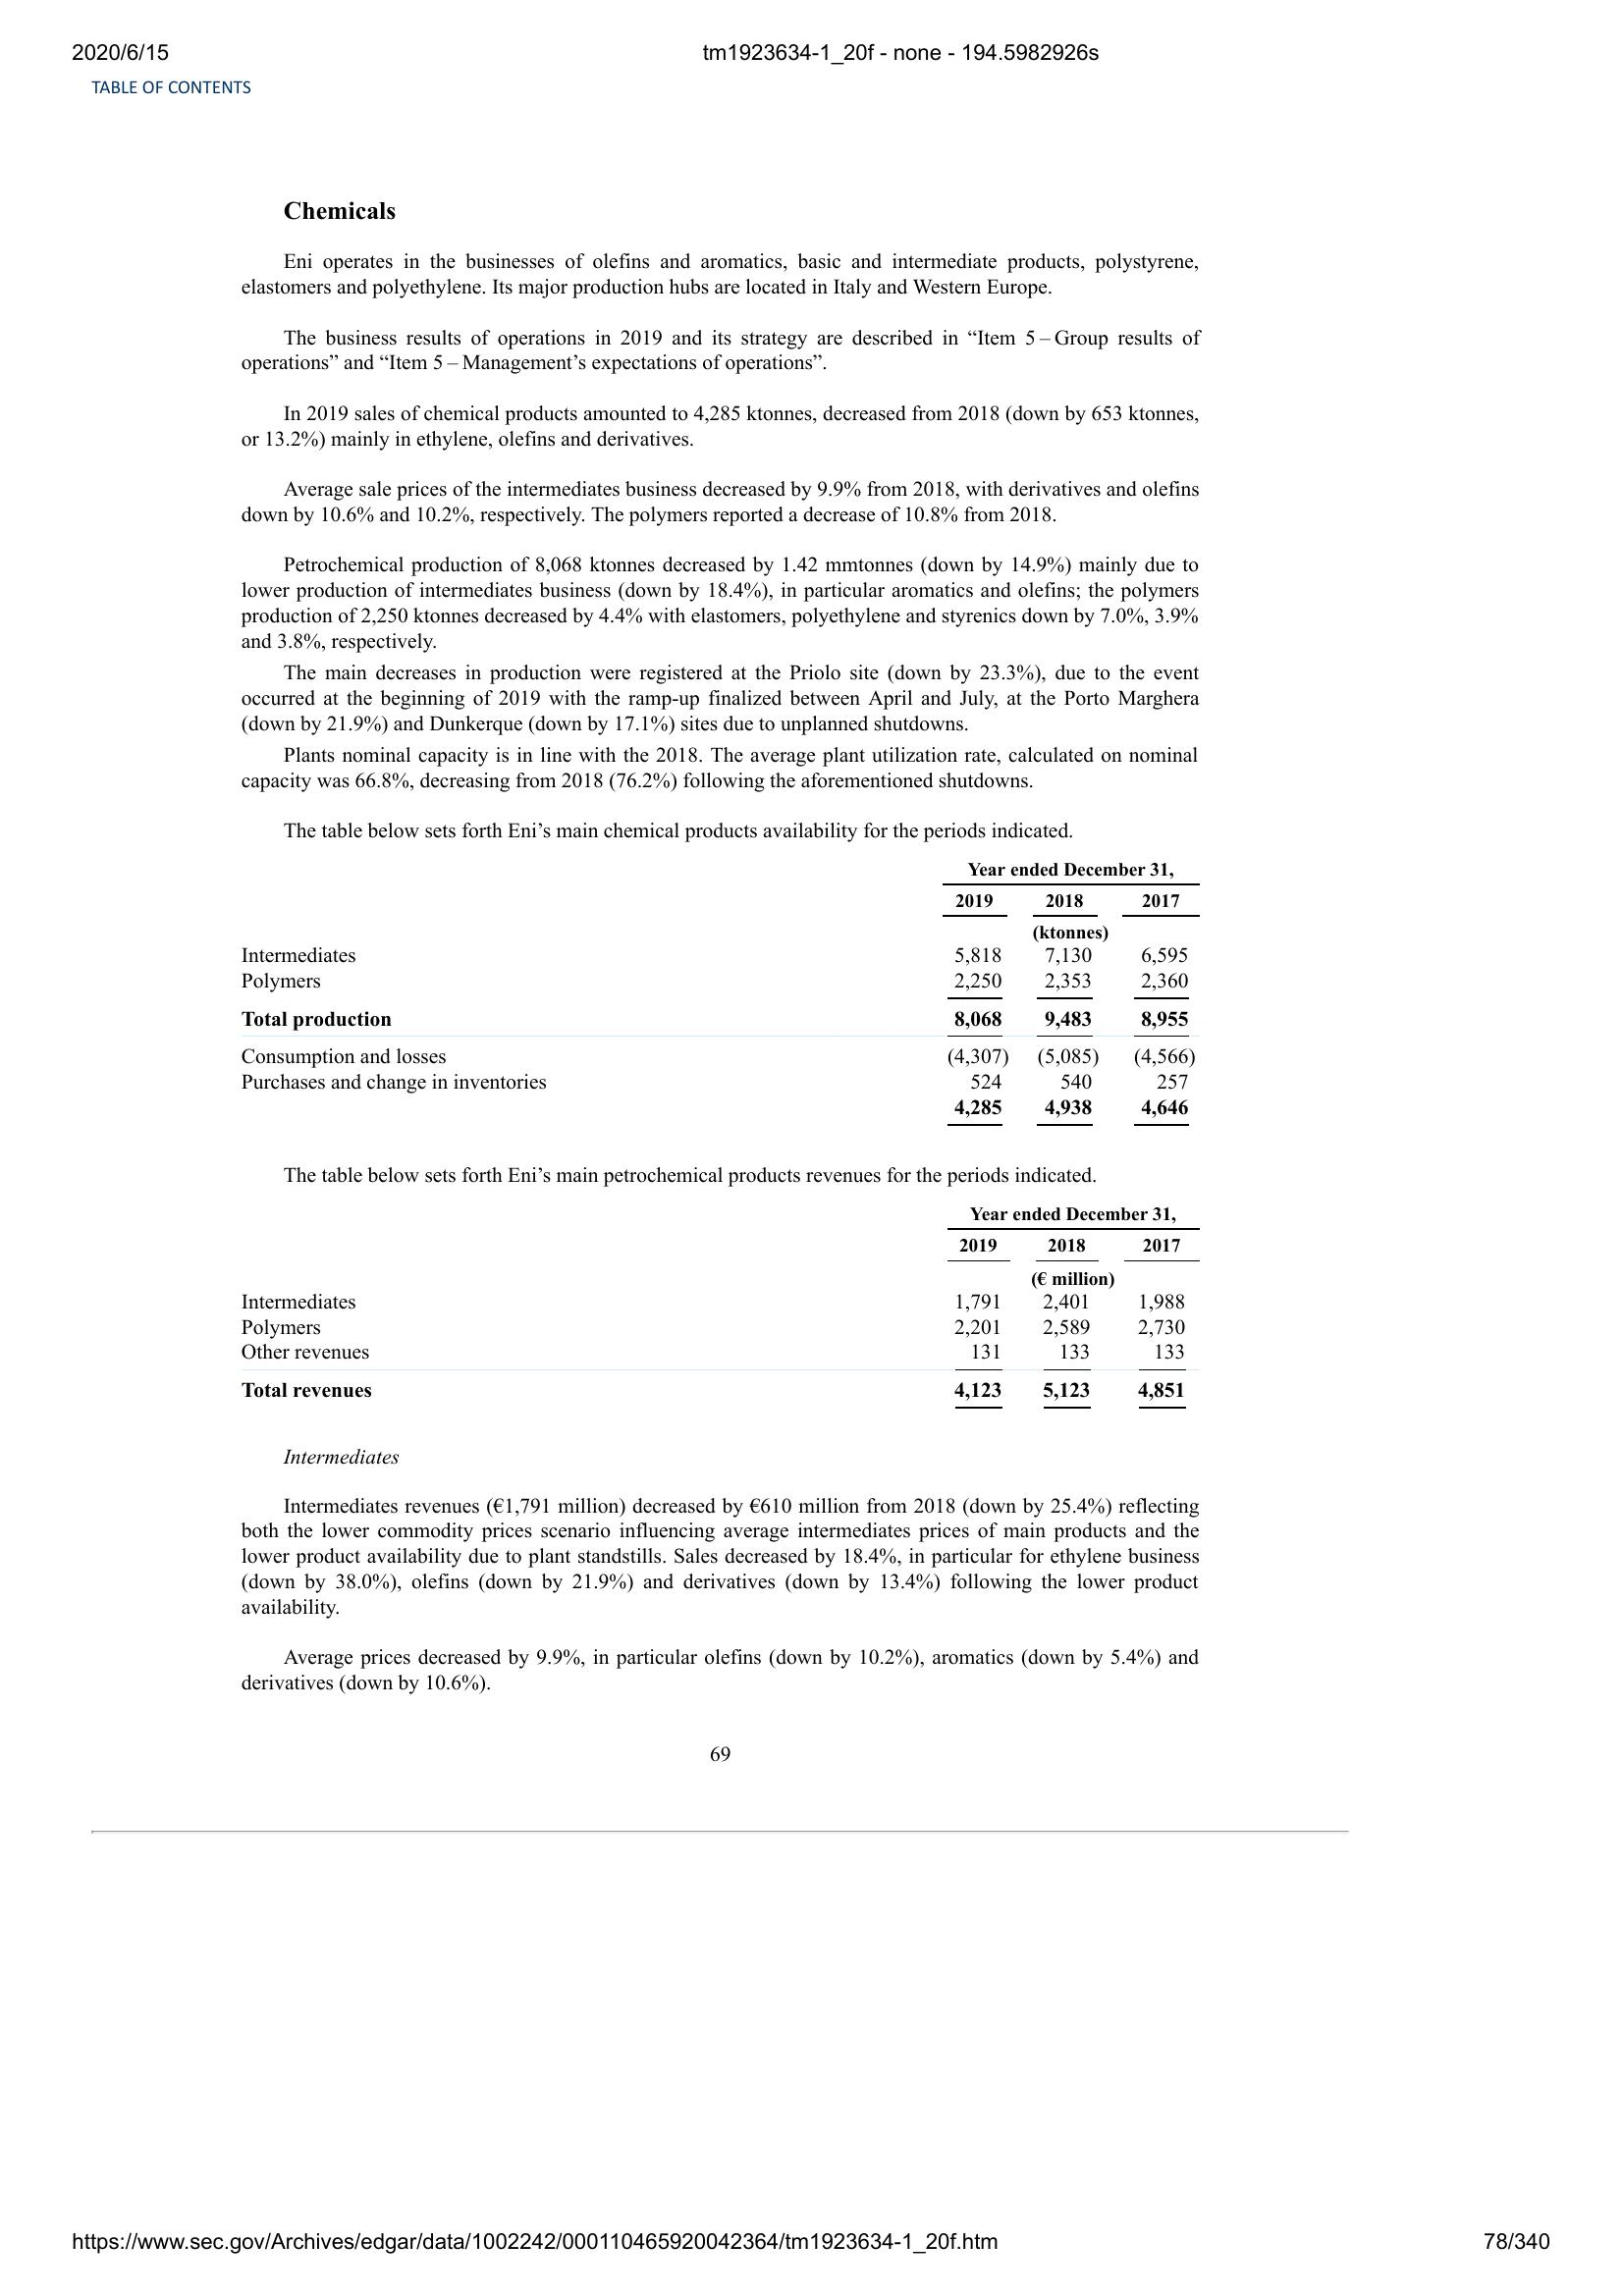table: (228, 858, 1200, 1137), (234, 1201, 1200, 1418)
